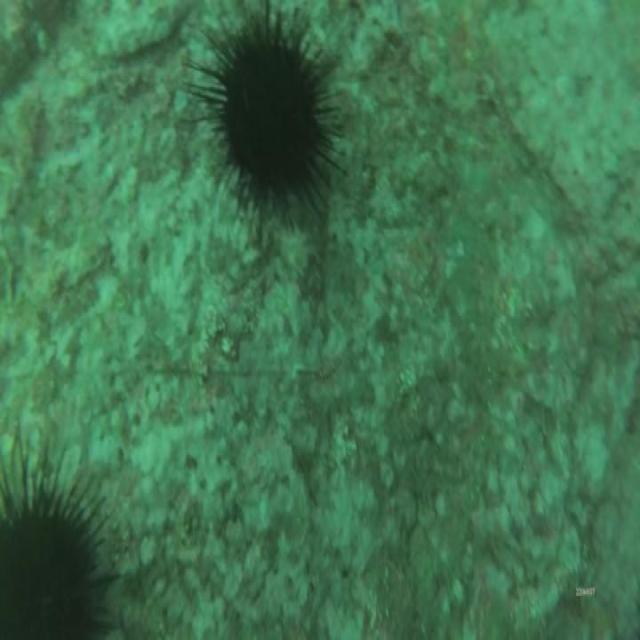echinus: (180, 2, 348, 244), (0, 441, 123, 640)
